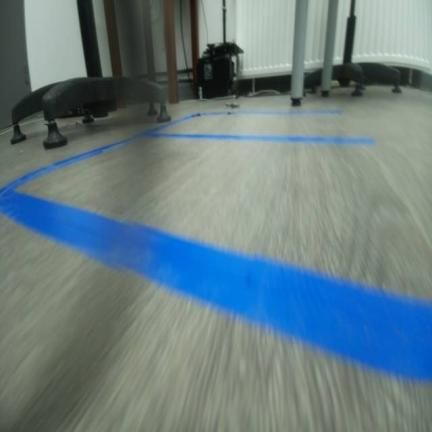place: (0, 128, 431, 383), (144, 109, 374, 144)
